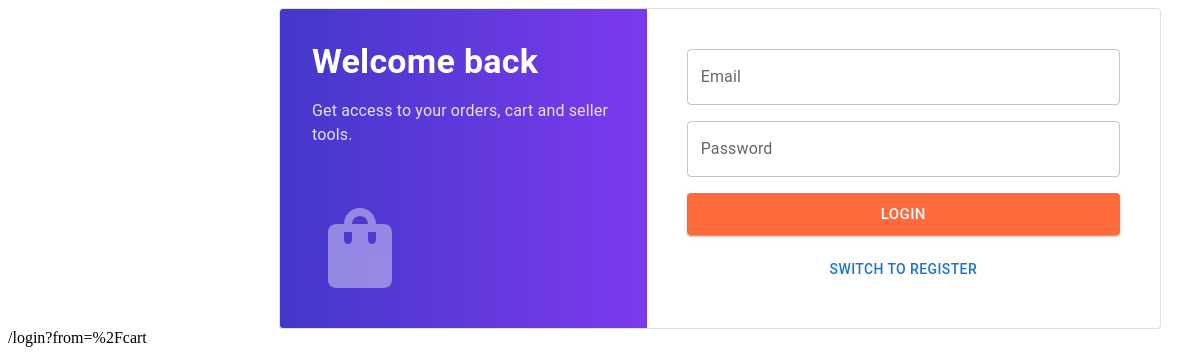
Test: LoginPage login › returns to the page the visitor came from
This screenshot has width=1178, height=364.
Type "a@b.com" into the field labelled "Email" at (903, 77), box [687,49,1120,105]
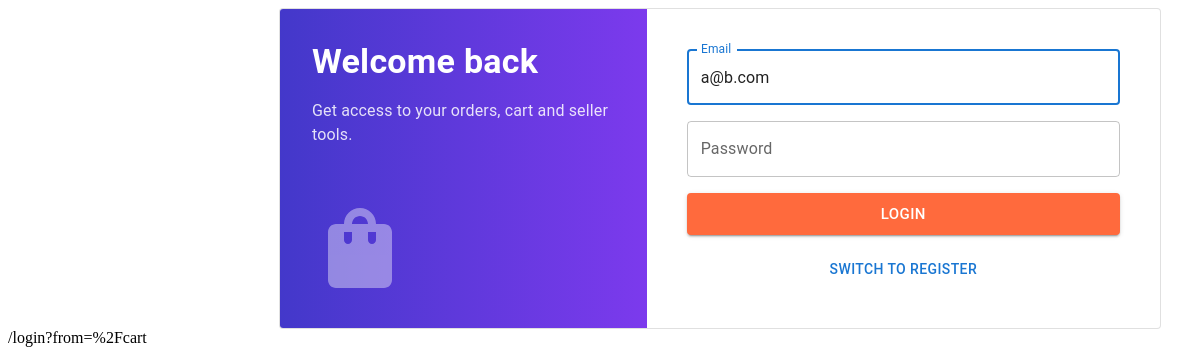
Type "secret1" into the password field labelled "Password" at (903, 149), box [687,121,1120,177]
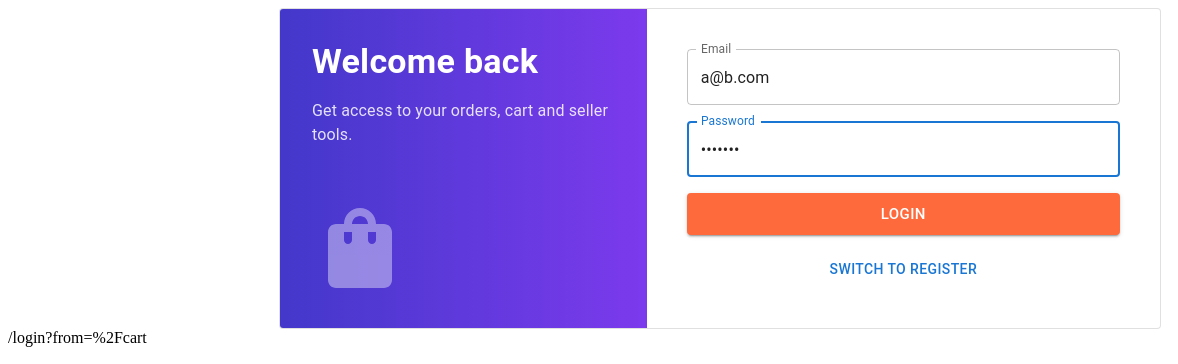
Click the button "Login" at (903, 214), box [687,193,1120,235]
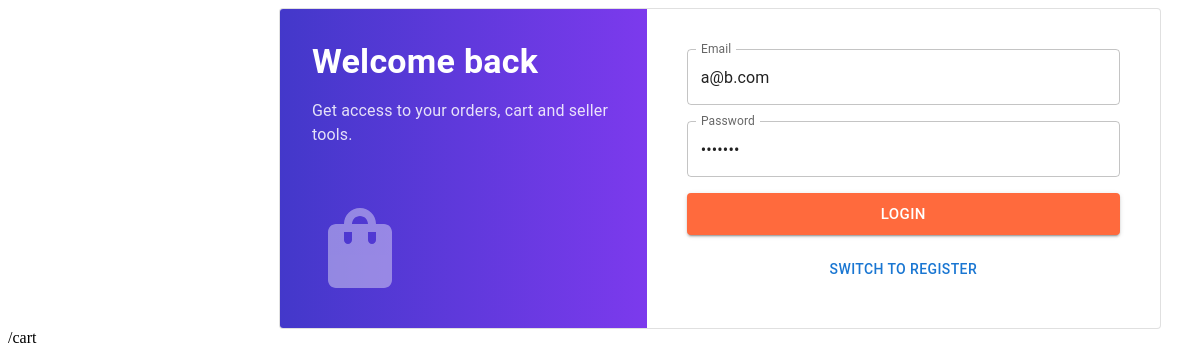
Expected: the text with test id "location" reads "/cart", [8,329,36,346]
